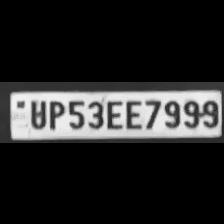3: (84, 97, 104, 129)
5: (64, 97, 86, 129)
7: (142, 97, 160, 129)
9: (160, 96, 180, 128), (199, 96, 219, 128), (182, 96, 200, 128)
E: (104, 97, 122, 129), (124, 97, 142, 129)
P: (46, 96, 64, 130)
U: (26, 97, 46, 128)
